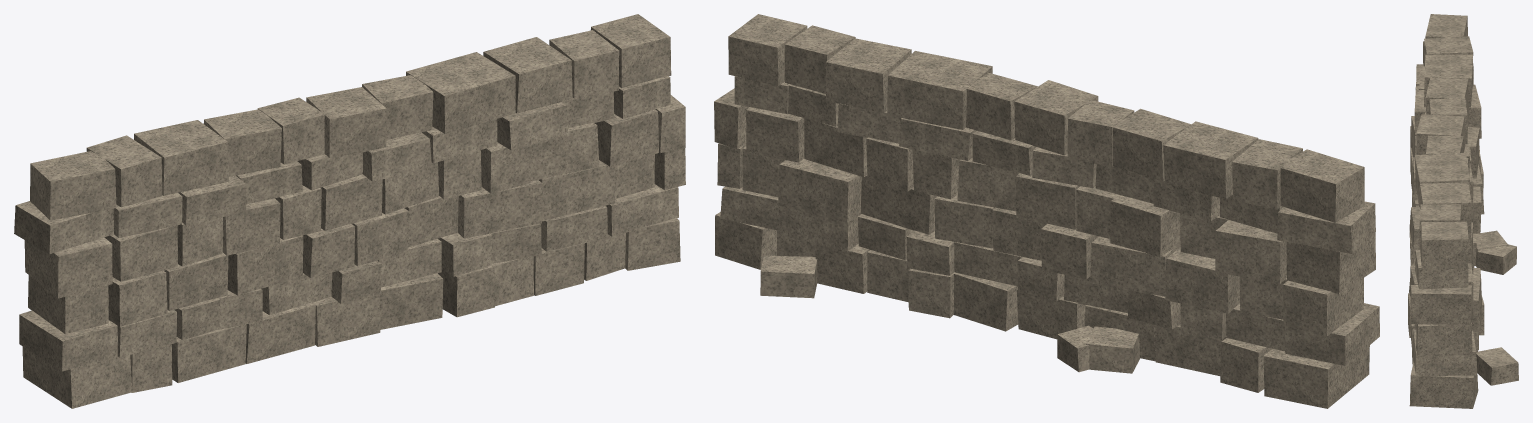
File: drywall3.glb
3 renders of one model, left to right at view 1: azimuth 30°, elevation 25°; view 2: azimuth 150°, elevation 25°; view 3: azimuth 270°, elevation 25°, orthographic. The views are drawn at different scales.
Visible parts, largest first — view 1: drywall3; view 2: drywall3; view 3: drywall3.
Boxes of the visible parts, left/top/right/bottom form: drywall3: left=14, top=14, right=685, bottom=408; drywall3: left=714, top=14, right=1379, bottom=408; drywall3: left=1408, top=14, right=1518, bottom=408.
Size of the model in its own units: 3.84 by 1.27 by 0.7665.
Materials: 1 (1 with a texture image).
